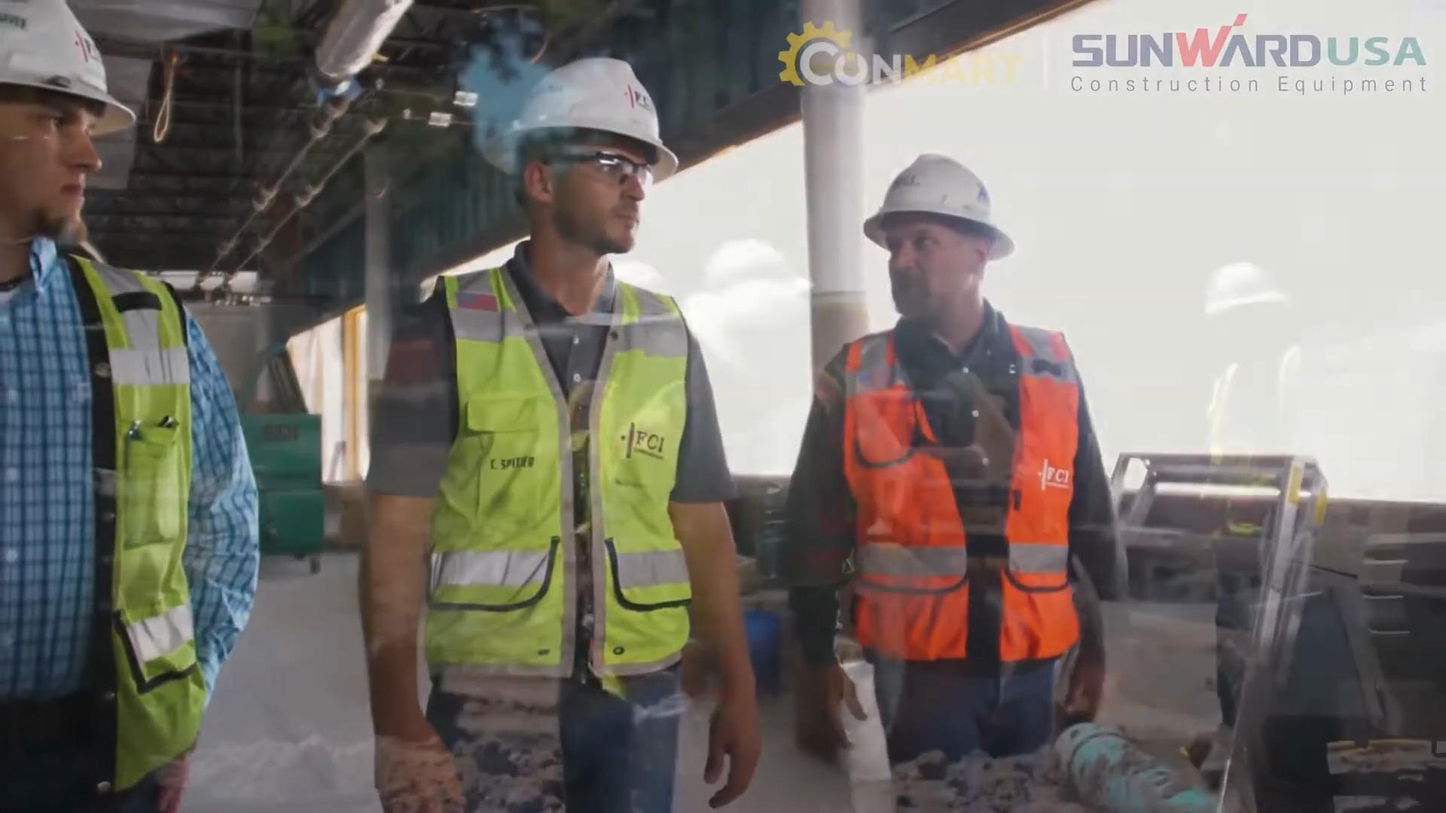Helmet: (500, 56, 679, 183), (0, 0, 137, 137)
Person: (356, 55, 763, 811), (779, 151, 1129, 782), (0, 0, 243, 807)
Safety Vest: (0, 271, 218, 755), (420, 295, 661, 672), (847, 339, 1069, 653)
bare-arms: (699, 674, 774, 813), (796, 647, 868, 789), (377, 723, 474, 813), (1058, 636, 1109, 719)
